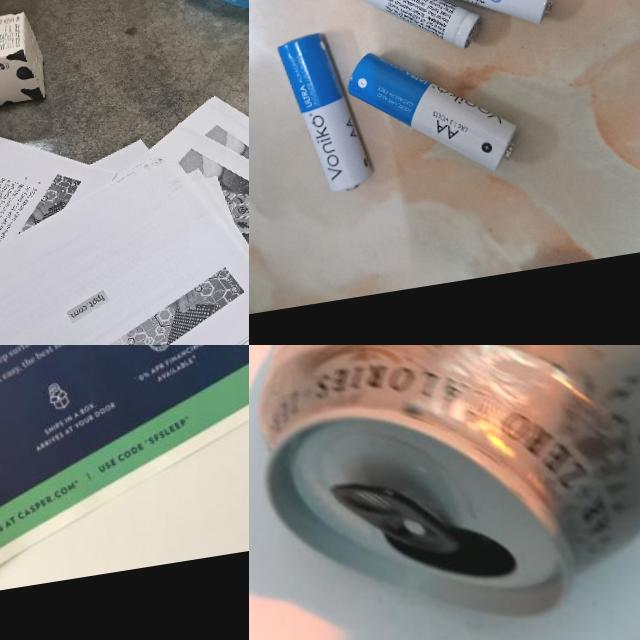aba de lata: (322, 458, 470, 574)
bateria: (344, 28, 526, 190), (276, 27, 378, 198), (333, 0, 487, 68), (389, 0, 561, 46)
caixinha: (0, 11, 51, 119)
lata: (249, 345, 640, 640)
papel: (0, 61, 249, 345), (0, 345, 249, 628)
